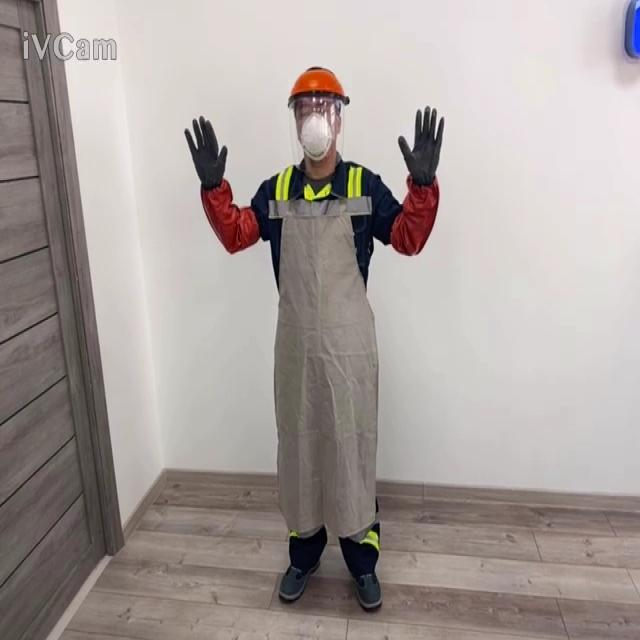Gloves: (397, 104, 444, 185)
Mask: (298, 110, 333, 162)
Protective apron: (268, 177, 379, 540)
Safety Shoes: (278, 558, 320, 602), (353, 569, 382, 608)
Sleeve: (199, 178, 260, 254), (389, 172, 439, 256)
gloves: (183, 114, 227, 190)
